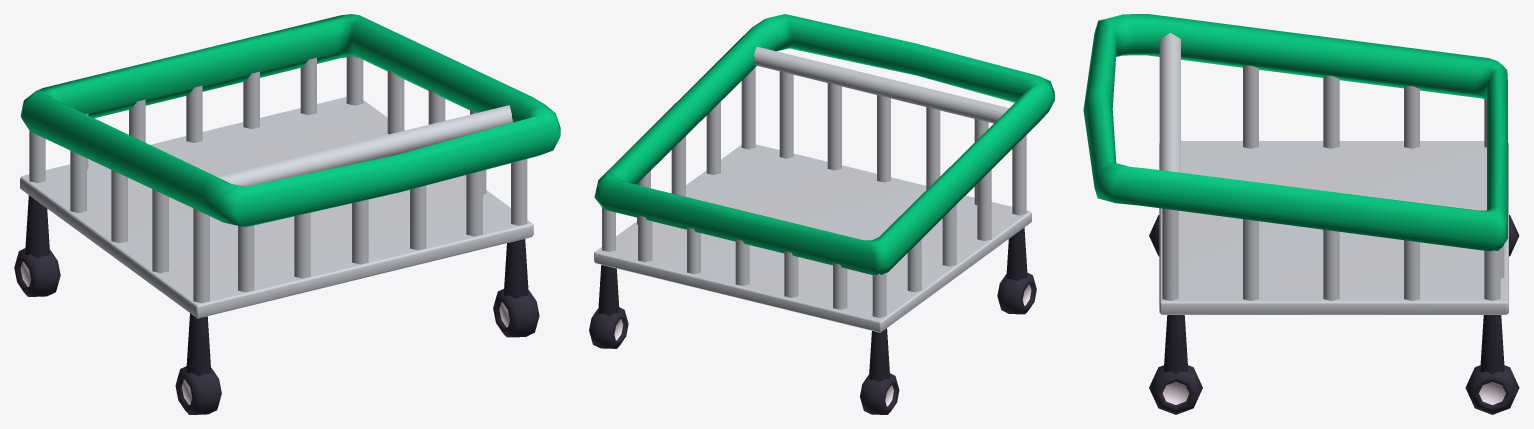
Rendered from cart_mesh.fbx.
3 views of the same model, side by side, from view 1: azimuth 30°, elevation 25°; view 2: azimuth 150°, elevation 25°; view 3: azimuth 270°, elevation 25° (orthographic). The views are drawn at different scales.
Visible parts, largest first — view 1: simplePipe, pCube43, pCylinder54, mirrored_x_8, pCylinder60, pCylinder64, mirrored_z_1, mirrored_z_2, mirrored_z_4, mirrored_z_3, duplicated_01, pCylinder63 (+1 smaller); view 2: simplePipe, pCube43, mirrored_x_8, pCylinder54, pCylinder60, mirrored_z_1, mirrored_x_9, pCylinder64, pCylinder63, duplicated_01, mirrored_x_10, mirrored_z_4 (+1 smaller); view 3: pCube43, simplePipe, mirrored_x_8, pCylinder54, pCylinder60, mirrored_x_9, mirrored_z_2, mirrored_x_10, mirrored_z_3.
Part boxes in pixels (left/top/right/bottom): simplePipe: left=20, top=14, right=560, bottom=226; pCube43: left=20, top=97, right=533, bottom=318; pCylinder54: left=29, top=99, right=310, bottom=303; mirrored_x_8: left=243, top=56, right=527, bottom=250; pCylinder60: left=217, top=105, right=512, bottom=186; pCylinder64: left=14, top=248, right=60, bottom=296; mirrored_z_1: left=175, top=366, right=221, bottom=414; mirrored_z_2: left=493, top=289, right=539, bottom=337; mirrored_z_4: left=186, top=313, right=210, bottom=376; mirrored_z_3: left=504, top=239, right=528, bottom=298; duplicated_01: left=25, top=195, right=49, bottom=258; pCylinder63: left=352, top=199, right=368, bottom=264; simplePipe: left=594, top=14, right=1054, bottom=274; pCube43: left=594, top=144, right=1031, bottom=332; mirrored_x_8: left=602, top=67, right=841, bottom=273; pCylinder54: left=784, top=107, right=1026, bottom=317; pCylinder60: left=753, top=46, right=1009, bottom=123; mirrored_z_1: left=997, top=272, right=1036, bottom=314; mirrored_x_9: left=589, top=307, right=628, bottom=348; pCylinder64: left=860, top=373, right=899, bottom=414; pCylinder63: left=877, top=95, right=890, bottom=182; duplicated_01: left=869, top=328, right=889, bottom=381; mirrored_x_10: left=598, top=265, right=619, bottom=315; mirrored_z_4: left=1006, top=227, right=1027, bottom=281; pCube43: left=1159, top=141, right=1508, bottom=314; simplePipe: left=1083, top=14, right=1507, bottom=251; mirrored_x_8: left=1162, top=208, right=1504, bottom=300; pCylinder54: left=1243, top=65, right=1486, bottom=148; pCylinder60: left=1159, top=33, right=1180, bottom=172; mirrored_x_9: left=1465, top=365, right=1519, bottom=414; mirrored_z_2: left=1149, top=365, right=1202, bottom=414; mirrored_x_10: left=1480, top=315, right=1504, bottom=374; mirrored_z_3: left=1164, top=315, right=1187, bottom=374.
Bounding box in the file's own units: 1.84 × 1.27 × 2.04.
